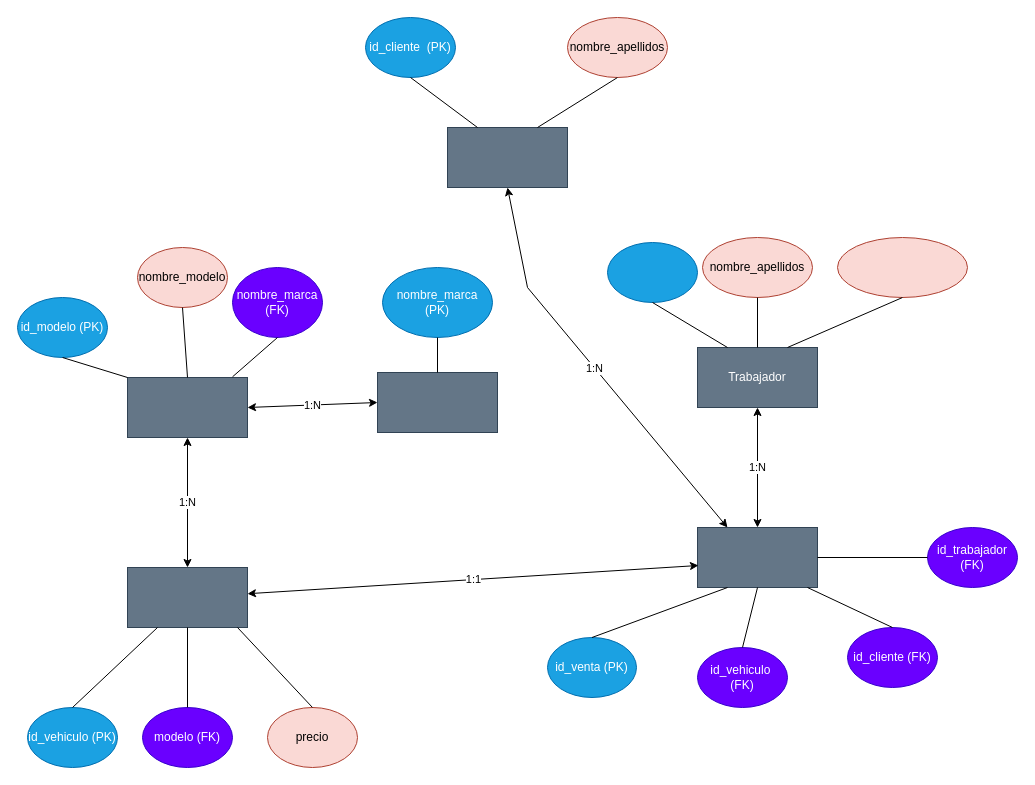
This 1035x785 diagram has some shape labels left out. The shapes that lost their labels are listed below. From the top down, each one's centre as x and y in pixels, then its label:
At pixel 507 157: "Cliente".
At pixel 652 272: "id_trabajador (PK)".
At pixel 902 267: "contraseña_trabajador".
At pixel 187 407: "Modelo".
At pixel 437 402: "Marca".
At pixel 757 557: "Venta".
At pixel 187 597: "Vehículo".
